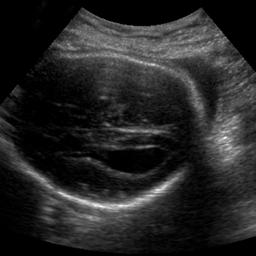abnormal: (6, 50, 207, 212)
